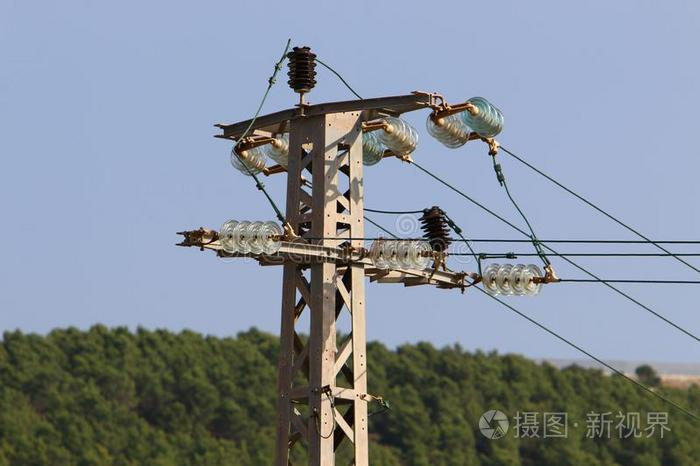insulator: (482, 261, 542, 297), (219, 220, 280, 254), (371, 237, 431, 270), (459, 97, 505, 136), (426, 111, 467, 150), (380, 118, 419, 152), (231, 145, 265, 176), (360, 132, 382, 165)
